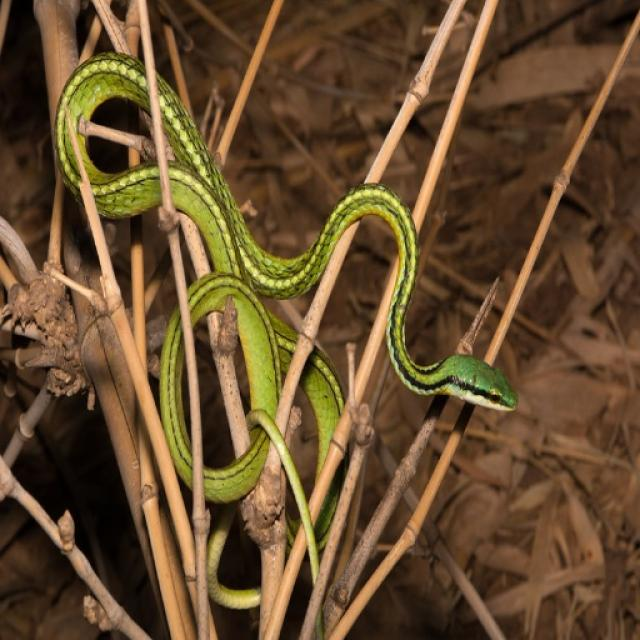snake: (54, 39, 530, 521)
